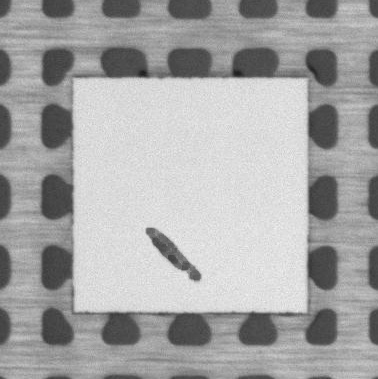DIE_INK: (139, 224, 205, 285)
